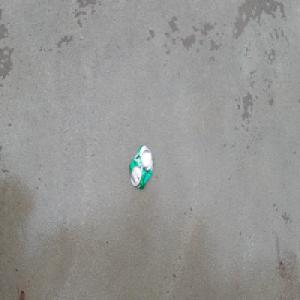SodaCan: (128, 143, 154, 191)
